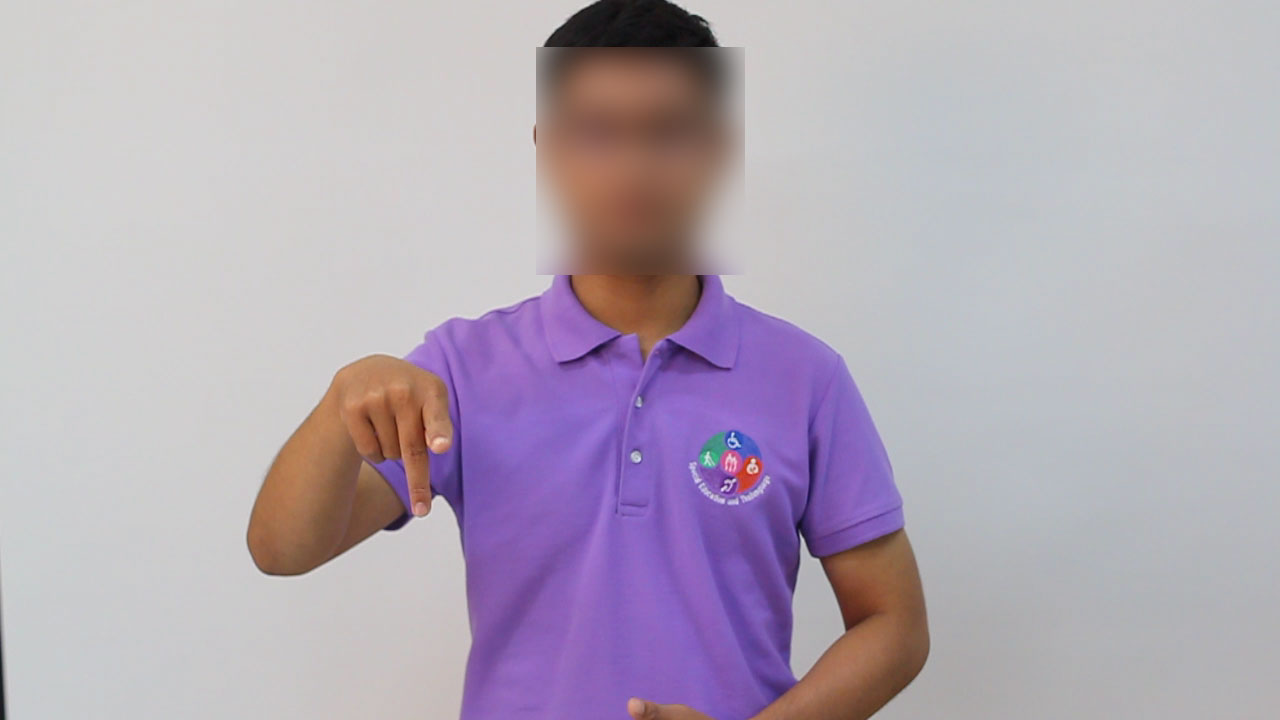por: (319, 337, 464, 529)
